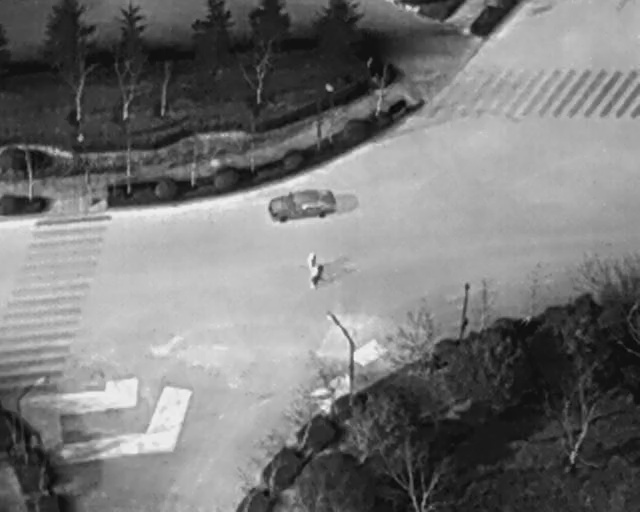Car: (266, 183, 339, 227)
Person: (311, 265, 322, 288), (309, 249, 316, 272)
